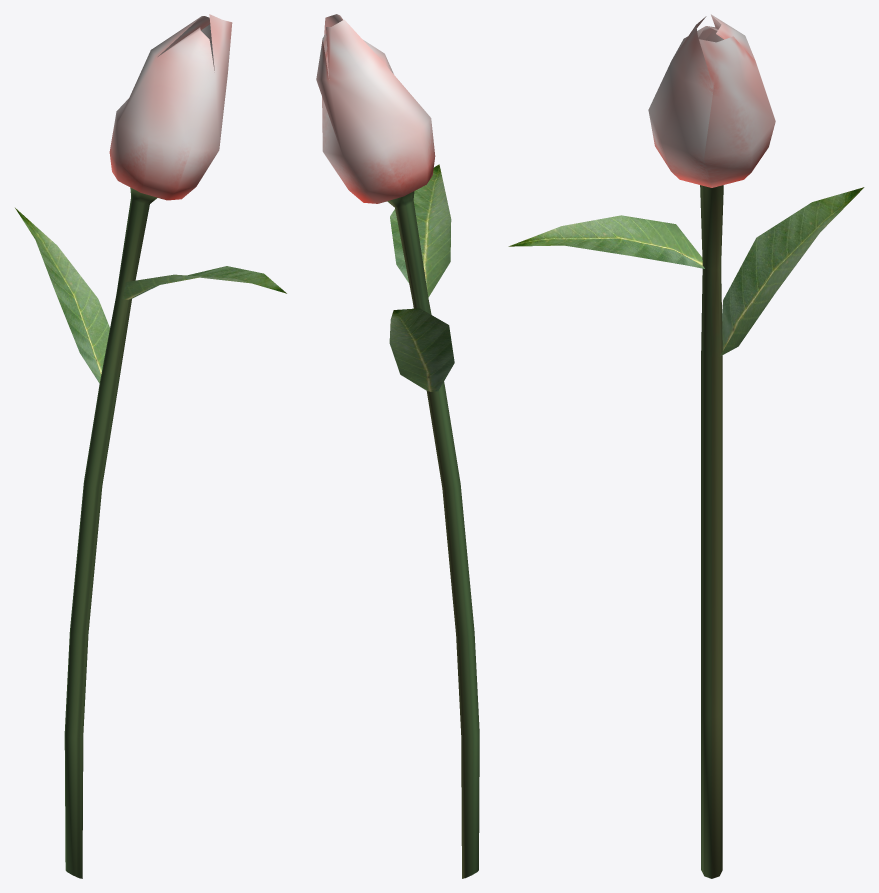
File: flower_A_c01.fbx
The picture shows the model from 3 angles, left to right: view 1: azimuth 30°, elevation 25°; view 2: azimuth 150°, elevation 25°; view 3: azimuth 270°, elevation 25°; orthographic projection. The views are drawn at different scales.
Parts seen in each view (by area): view 1: flowerA_c1; view 2: flowerA_c1; view 3: flowerA_c1.
Boxes of the visible parts, bbox=[...] form: flowerA_c1: bbox=[15, 14, 286, 878]; flowerA_c1: bbox=[316, 14, 479, 878]; flowerA_c1: bbox=[508, 14, 864, 878].
Size of the model in its own units: 6.24 by 30.99 by 10.75.
Materials: 1 (1 with a texture image).
